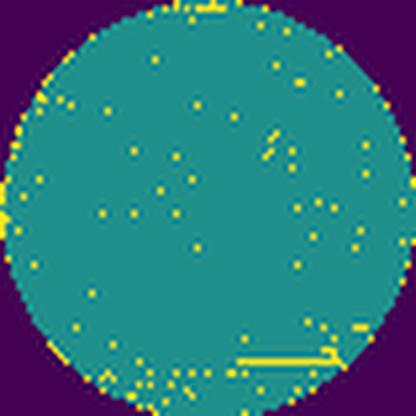Scratch: (231, 345, 348, 375)
